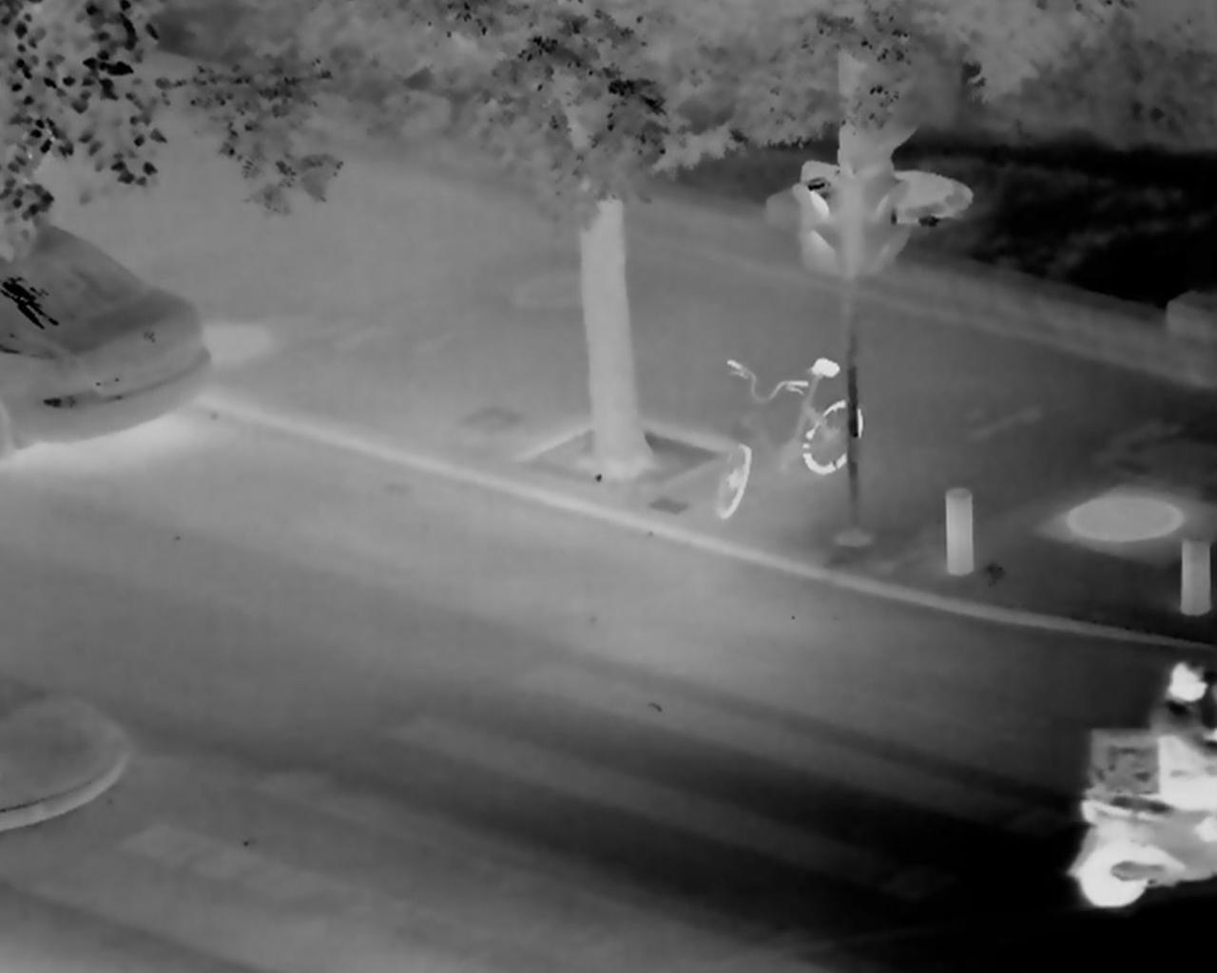person: (1149, 658, 1217, 830)
